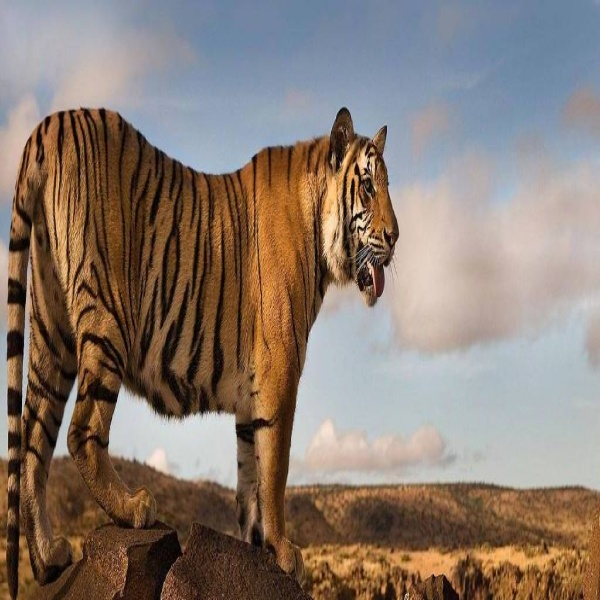Tiger: (5, 104, 406, 598)
